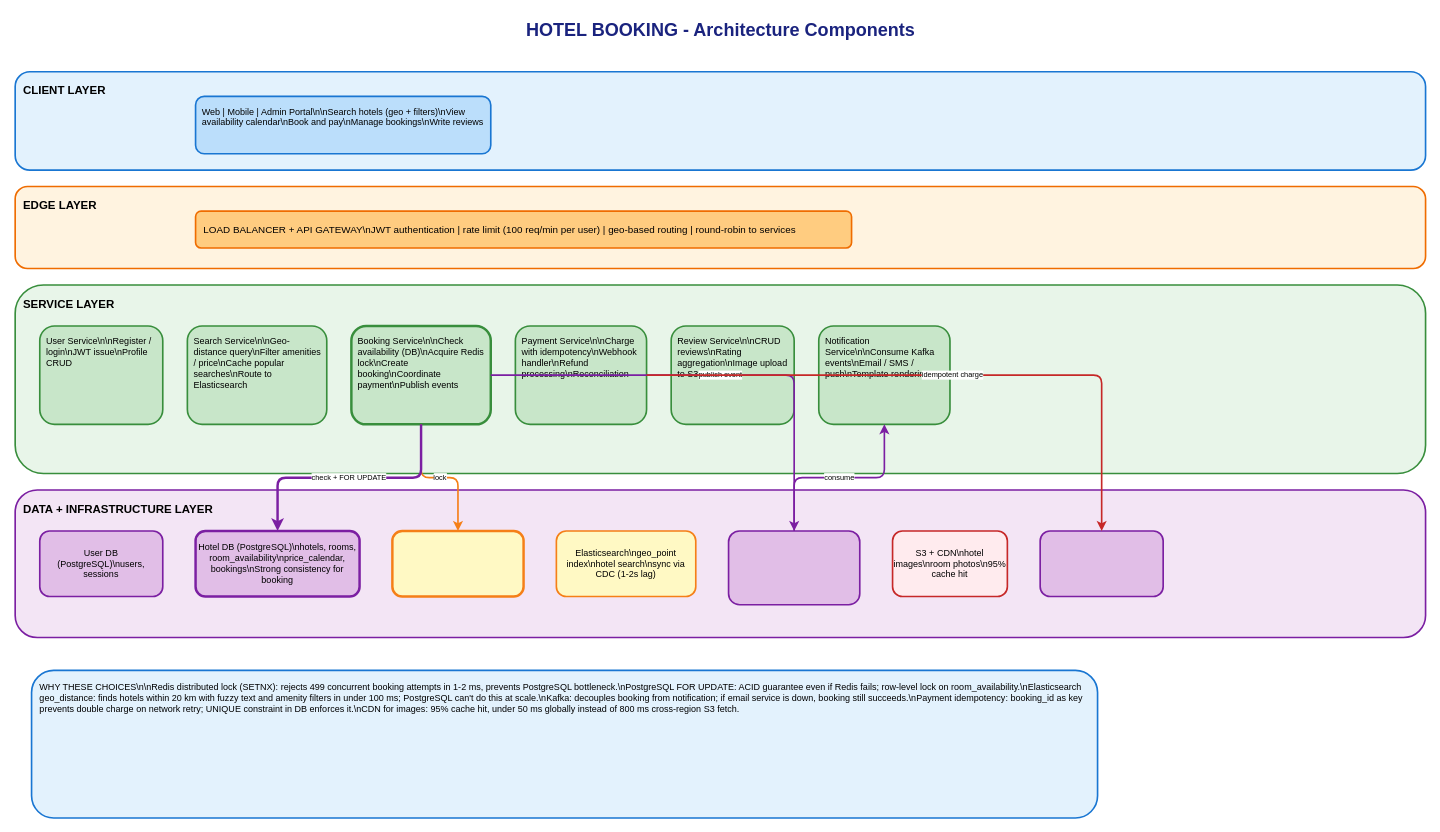
Some shapes in this 1440 by 832 pixel diagram are drawn without their labels. Each missing label, with the centre of its shape:
Kafka\nbooking.created\npayment.success\nbooking.confirmed\nbooking.cancelled: (x=793, y=567)
Payment DB\npayments table\nUNIQUE(booking_id): (x=1101, y=563)
Redis\ndistributed lock (SETNX)\nsearch cache\nbooking expiry TTL: (x=457, y=563)
